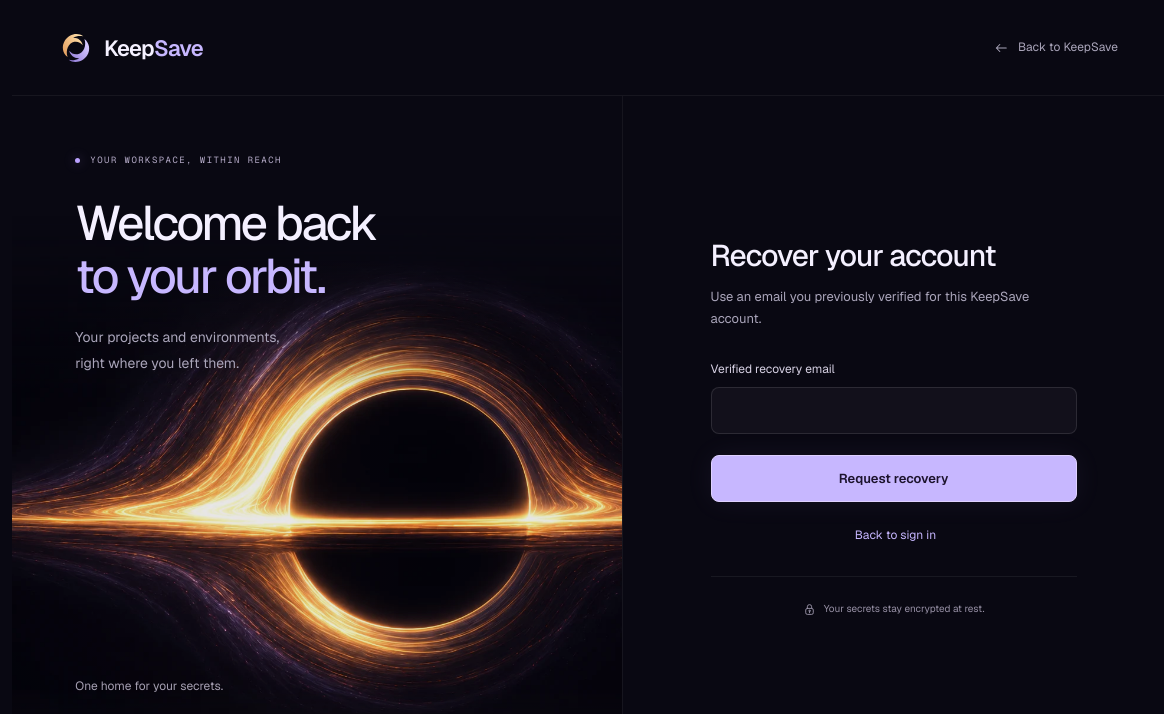
Test: uses the same generic recovery wording for a known contact
This screenshot has width=1164, height=714.
Expected: the button "Request recovery" is enabled, [711, 455, 1077, 502]
Step 1. Type "recovery@example.invalid" into the field labelled "Verified recovery email" → [894, 411], box [711, 387, 1077, 434]
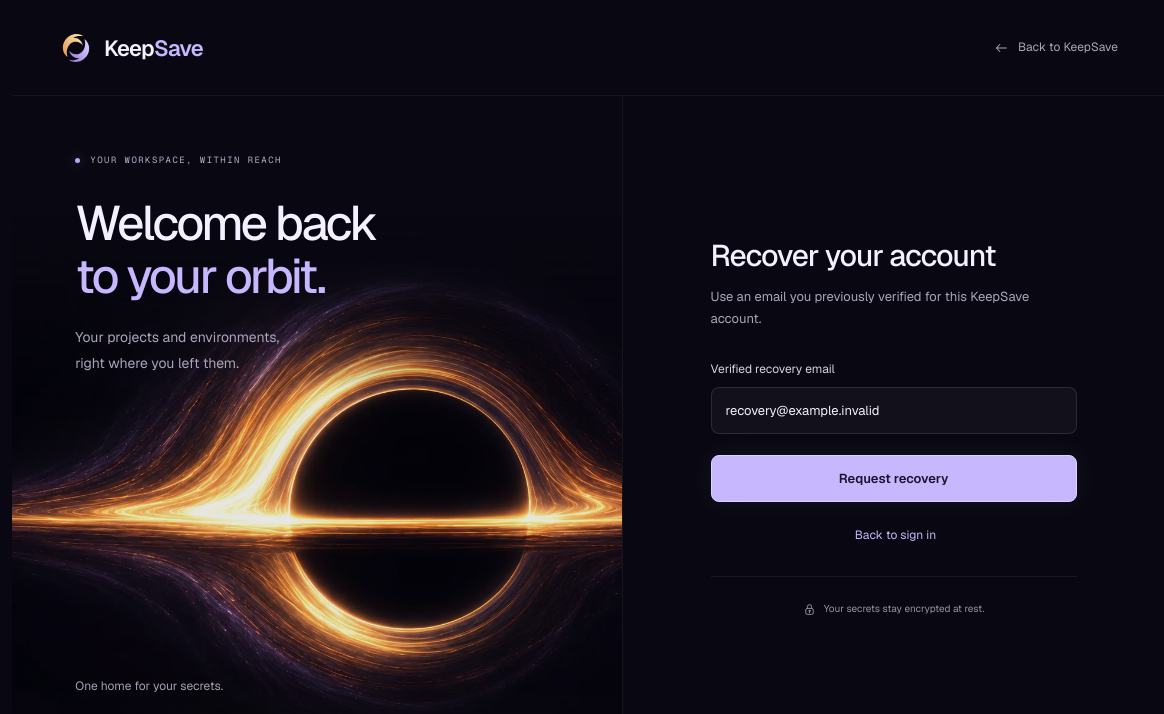
Step 2. Click the button "Request recovery" → [894, 479], box [711, 455, 1077, 502]
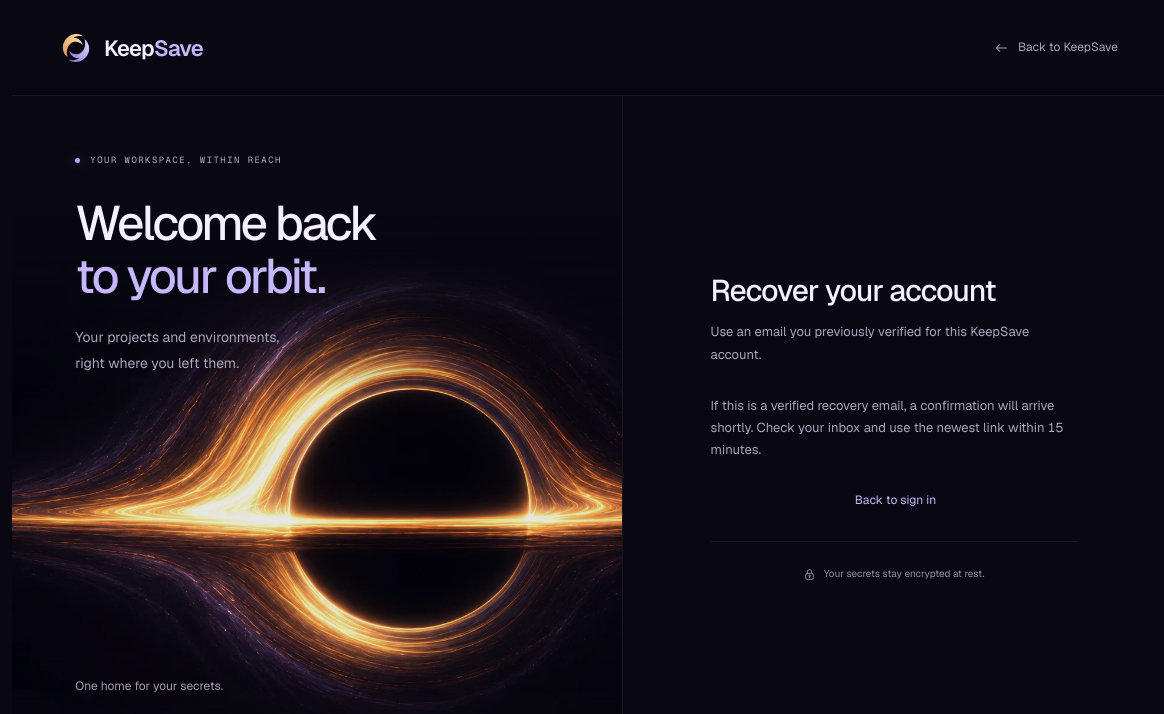
Expected: the message shows "If this is a verified recovery email", [711, 397, 1063, 458]
